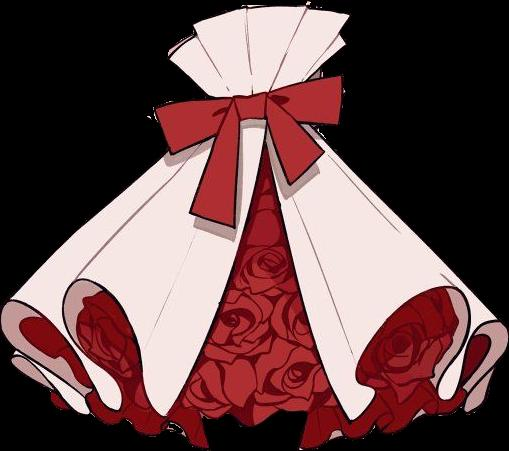Bodice: (168, 6, 348, 95)
Hemline: (0, 90, 270, 417), (263, 90, 508, 426), (12, 357, 483, 450)
Neckline: (166, 2, 346, 56)
Skirt: (1, 77, 507, 447)
Waistline: (212, 76, 306, 101)
